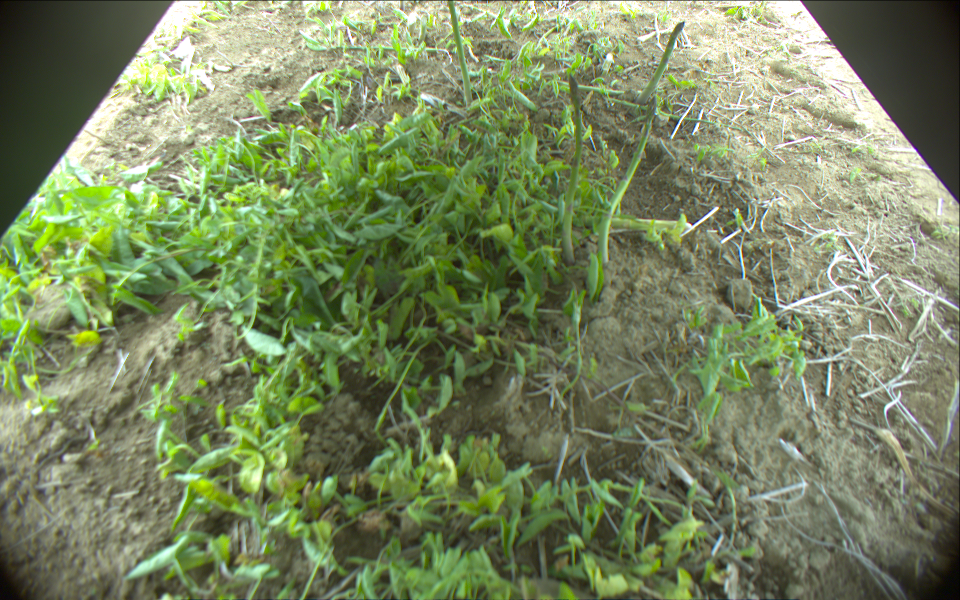aspa: (601, 100, 658, 262), (635, 21, 686, 105), (561, 76, 583, 265), (448, 1, 476, 109), (574, 214, 689, 234)
